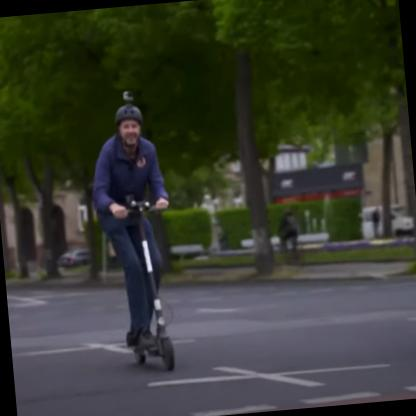helmet: (111, 102, 146, 148)
human: (96, 100, 166, 349)
kickboard: (131, 337, 180, 377)
